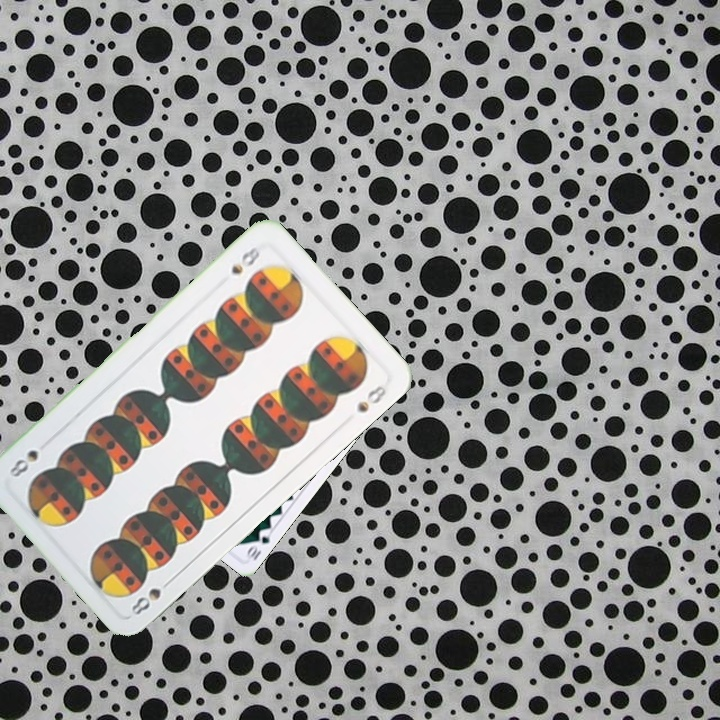G10: (243, 524, 275, 563)
S8: (126, 573, 176, 618), (227, 242, 263, 277)
